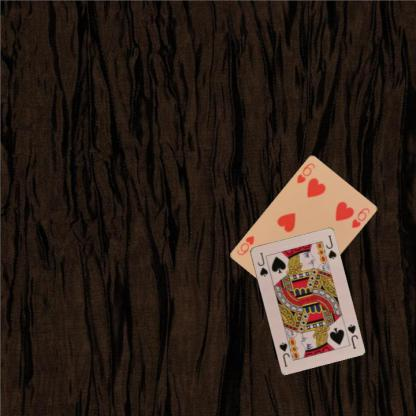6h: (294, 161, 316, 185)
Js: (344, 321, 360, 350), (255, 250, 269, 278)
